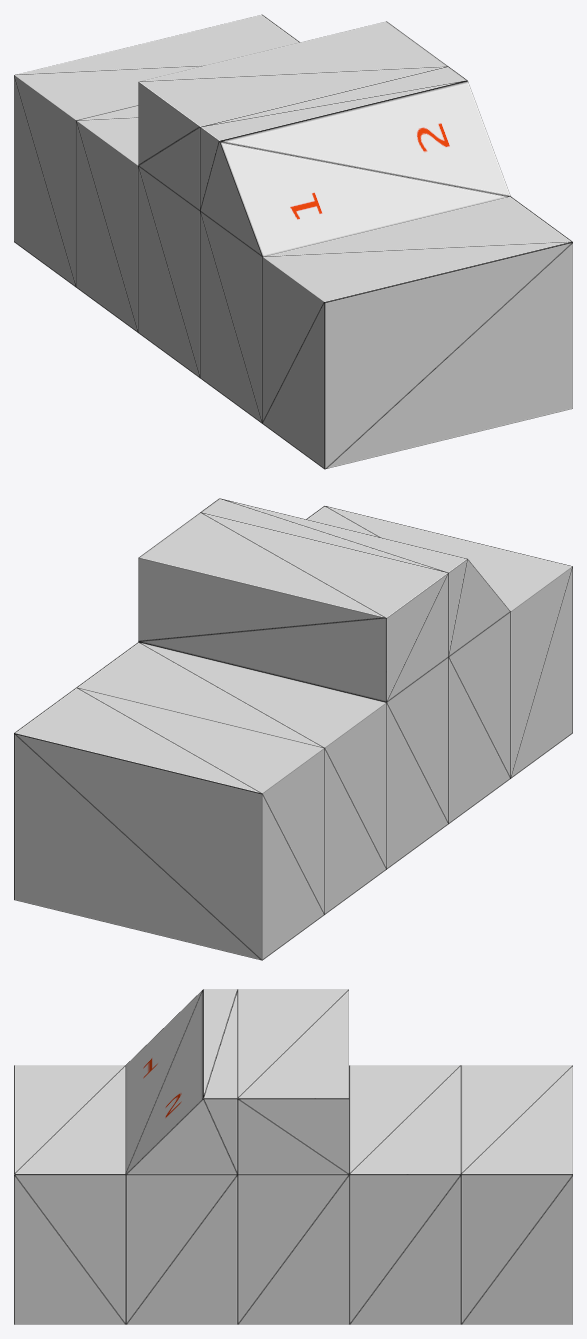
File: truck.dae
The picture shows the model from 3 angles, top to bottom: view 1: azimuth 30°, elevation 25°; view 2: azimuth 150°, elevation 25°; view 3: azimuth 270°, elevation 25°; orthographic projection. The views are drawn at different scales.
Visible parts, largest first — view 1: Truck; view 2: Truck; view 3: Truck.
Boxes of the visible parts, x1,y1,x2,y2 form: Truck: (14,14,572,469); Truck: (14,498,572,960); Truck: (14,989,572,1324).
Size of the model in its own units: 4.62 by 10.01 by 4.47.
Materials: 1 (1 with a texture image).
